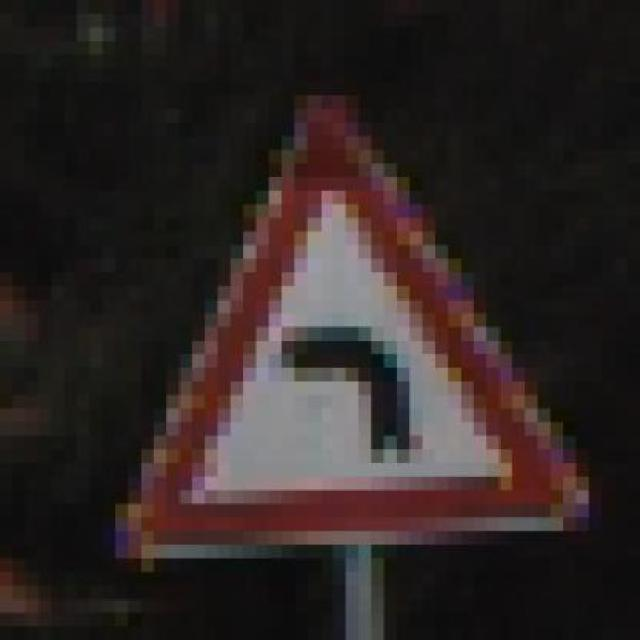Dangerous Left Curve Ahead: (118, 80, 592, 572)
